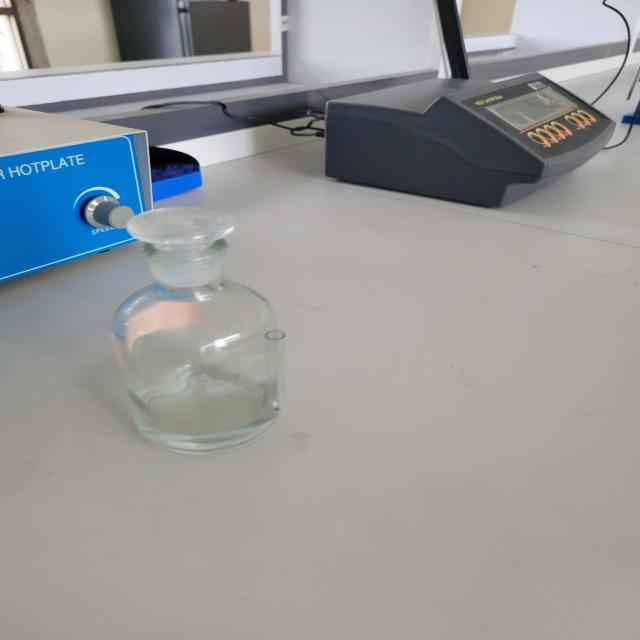Reagent_Bottle: (55, 156, 345, 485)
